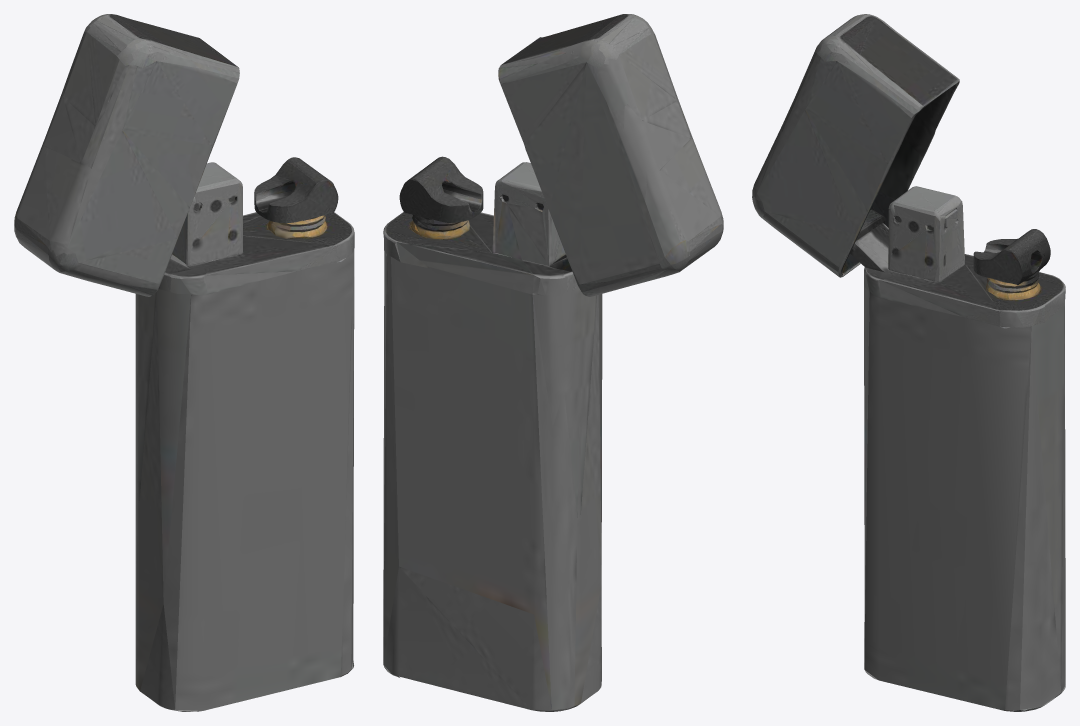
The model's file is lighter.glb.
3 views of the same model, side by side, from view 1: azimuth 30°, elevation 25°; view 2: azimuth 150°, elevation 25°; view 3: azimuth 330°, elevation 25° (orthographic). The views are drawn at different scales.
Visible parts, largest first — view 1: Mesh_0; view 2: Mesh_0; view 3: Mesh_0.
Part boxes in pixels (x1,y1,x2,y2): Mesh_0: (14, 14, 354, 711); Mesh_0: (383, 14, 723, 711); Mesh_0: (752, 14, 1065, 711).
Size of the model in its own units: 0.9105 by 1.9 by 0.2735.
Materials: 1 (1 with a texture image).
